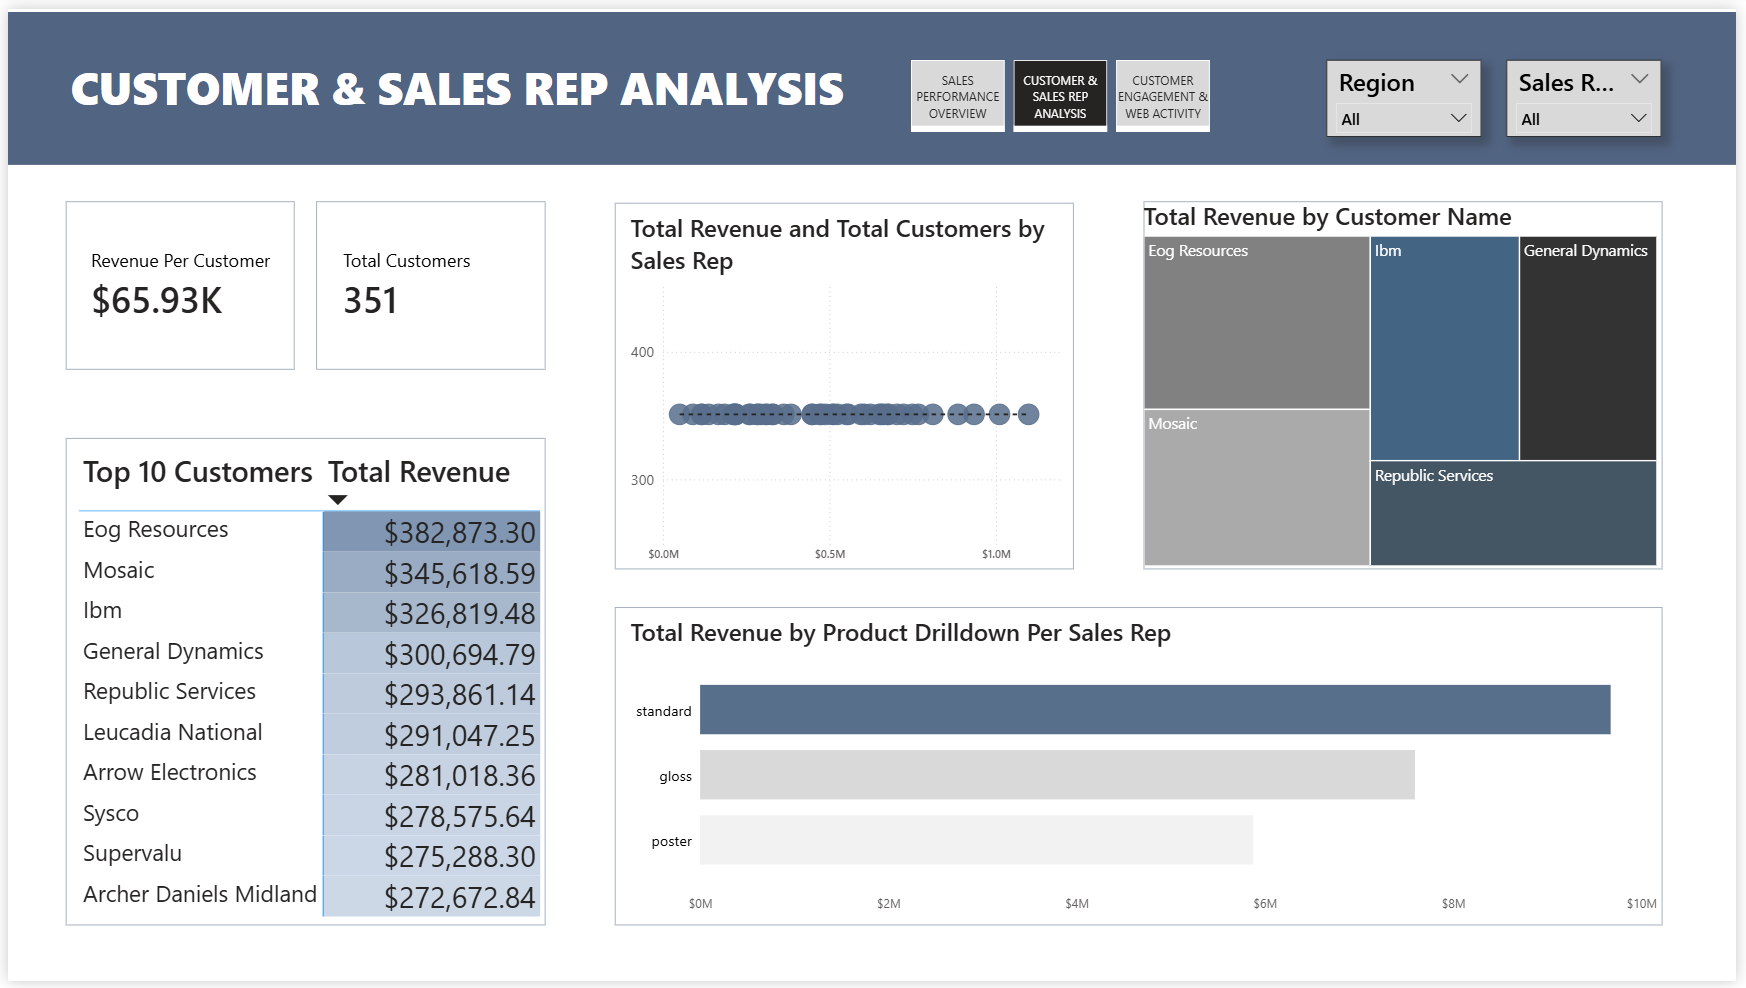

The dashboard page shown, as its layout file describes it:
{"tool":"powerbi","page":{"name":"CUSTOMER & SALES REP ANALYSIS","canvas":[1920,1080],"ordinal":1},"visuals":[{"type":"pivotTable","fields":{"Values":["dax_measures.Total Revenue"],"Rows":["accounts.name"]},"box":[73.3,485,523.3,546.7],"z":0},{"type":"cardVisual","fields":{"Data":["dax_measures.Revenue per Customer"]},"box":[63.3,211.7,271.7,190],"z":1000},{"type":"cardVisual","fields":{"Data":["dax_measures.Total Customers"]},"box":[343.3,211.7,253.3,190],"z":2000},{"type":"clusteredBarChart","fields":{"Category":["orders.Product","sales_reps.name"],"Y":["dax_measures.Total Revenue"]},"box":[686.7,673.3,1150,340],"z":3000},{"type":"scatterChart","fields":{"X":["dax_measures.Total Revenue"],"Category":["sales_reps.name"],"Y":["dax_measures.Total Customers"]},"box":[686.7,225,506.7,398.3],"z":4000},{"type":"treemap","fields":{"Group":["accounts.name"],"Values":["dax_measures.Total Revenue"]},"box":[1256.7,211.7,580,411.7],"z":5000},{"type":"slicer","fields":{"Values":["region.name"]},"box":[1464.5,56.7,171.7,85],"z":6000},{"type":"slicer","fields":{"Values":["sales_reps.name"]},"box":[1665,56.7,171.7,85],"z":7000},{"type":"pageNavigator","box":[1003.3,56.7,333.3,80],"z":8000}]}

Visuals, with their boxes in screenshot pixels (x1, y1, x2, y2), scaled from the page's 1920x1080 canvas onto the 1746x988 screenshot:
pivotTable - dax_measures.Total Revenue x accounts.name: [x1=67, y1=444, x2=543, y2=944]
cardVisual - dax_measures.Revenue per Customer: [x1=58, y1=194, x2=305, y2=367]
cardVisual - dax_measures.Total Customers: [x1=312, y1=194, x2=543, y2=367]
clusteredBarChart - orders.Product x sales_reps.name: [x1=624, y1=616, x2=1670, y2=927]
scatterChart - dax_measures.Total Revenue x sales_reps.name: [x1=624, y1=206, x2=1085, y2=570]
treemap - accounts.name x dax_measures.Total Revenue: [x1=1143, y1=194, x2=1670, y2=570]
slicer - region.name: [x1=1332, y1=52, x2=1488, y2=130]
slicer - sales_reps.name: [x1=1514, y1=52, x2=1670, y2=130]
pageNavigator: [x1=912, y1=52, x2=1215, y2=125]
